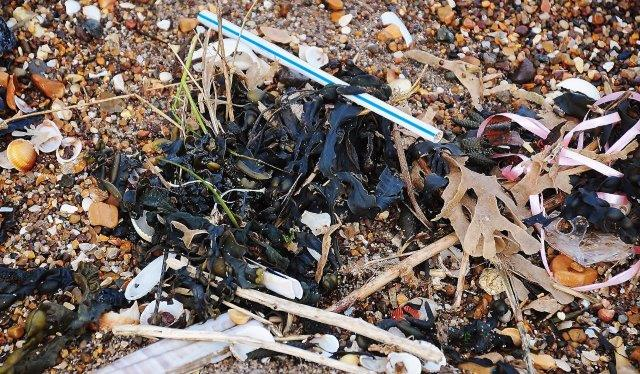sedotan: (197, 9, 442, 142)
